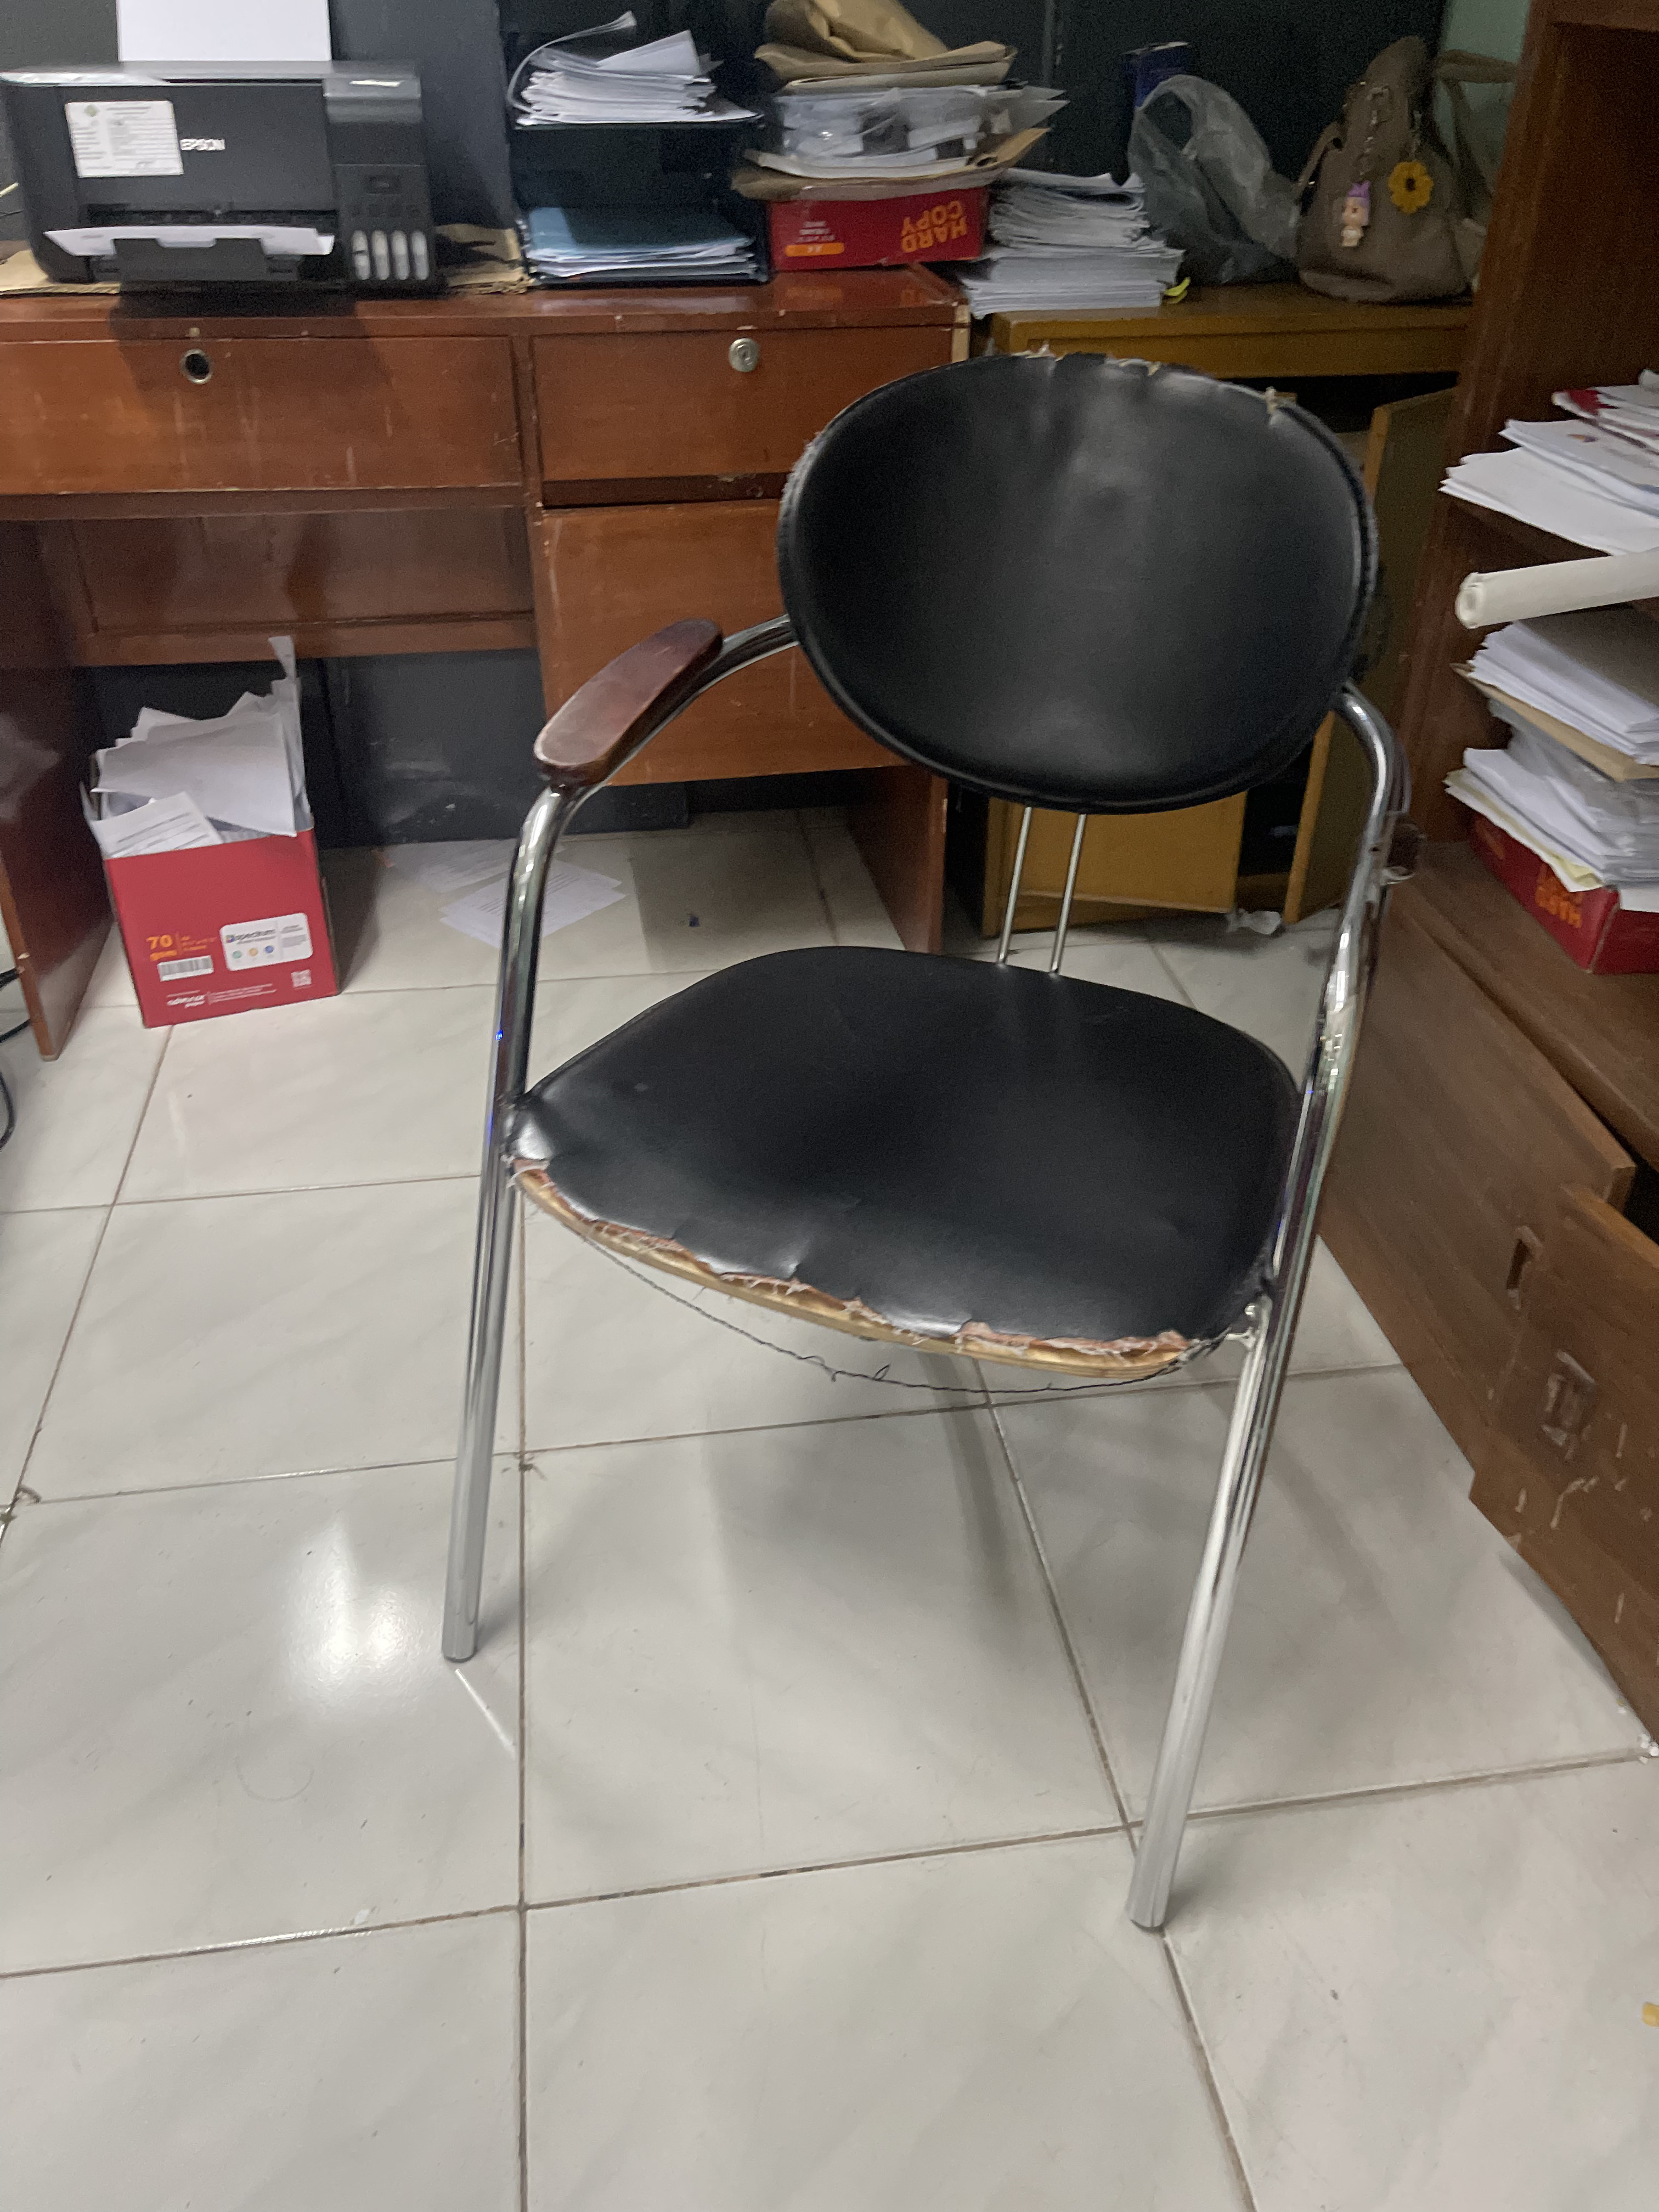chair1: (422, 336, 1399, 1944)
